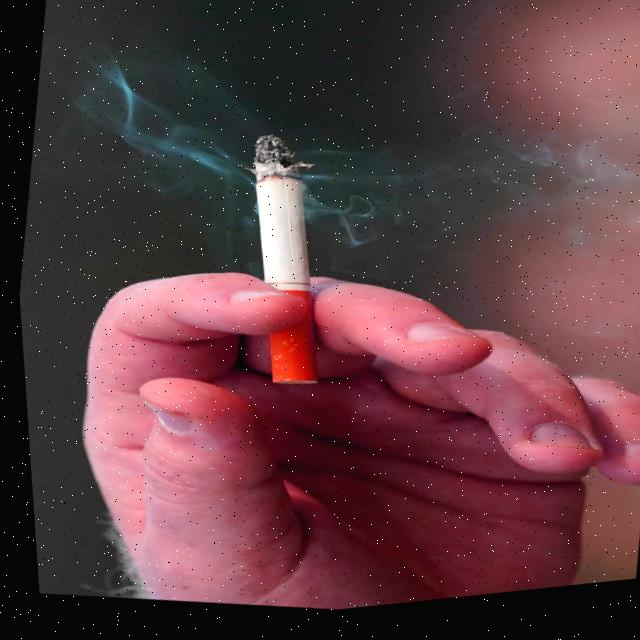cigarette: (256, 135, 318, 382)
